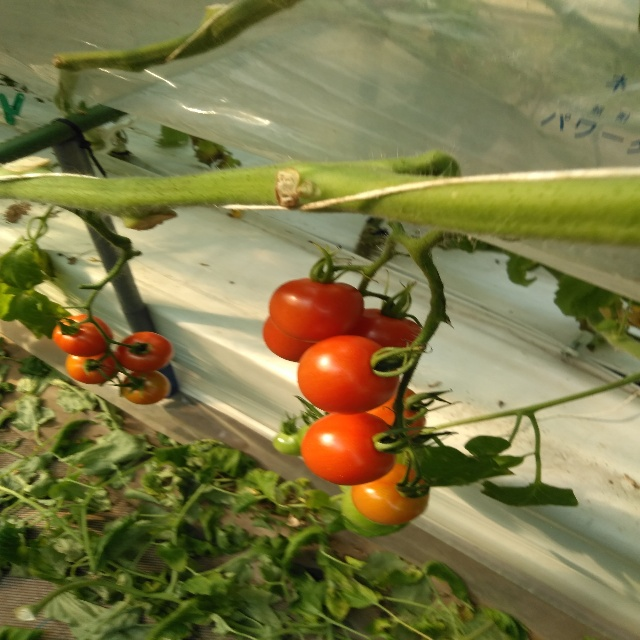l_fully_ripened: (297, 334, 400, 415), (301, 411, 398, 486), (269, 279, 364, 342), (350, 308, 422, 348), (51, 314, 113, 356), (262, 314, 315, 363), (116, 331, 173, 372)
l_half_ripened: (352, 463, 430, 525), (363, 385, 425, 441), (66, 349, 118, 384), (120, 370, 169, 405)
